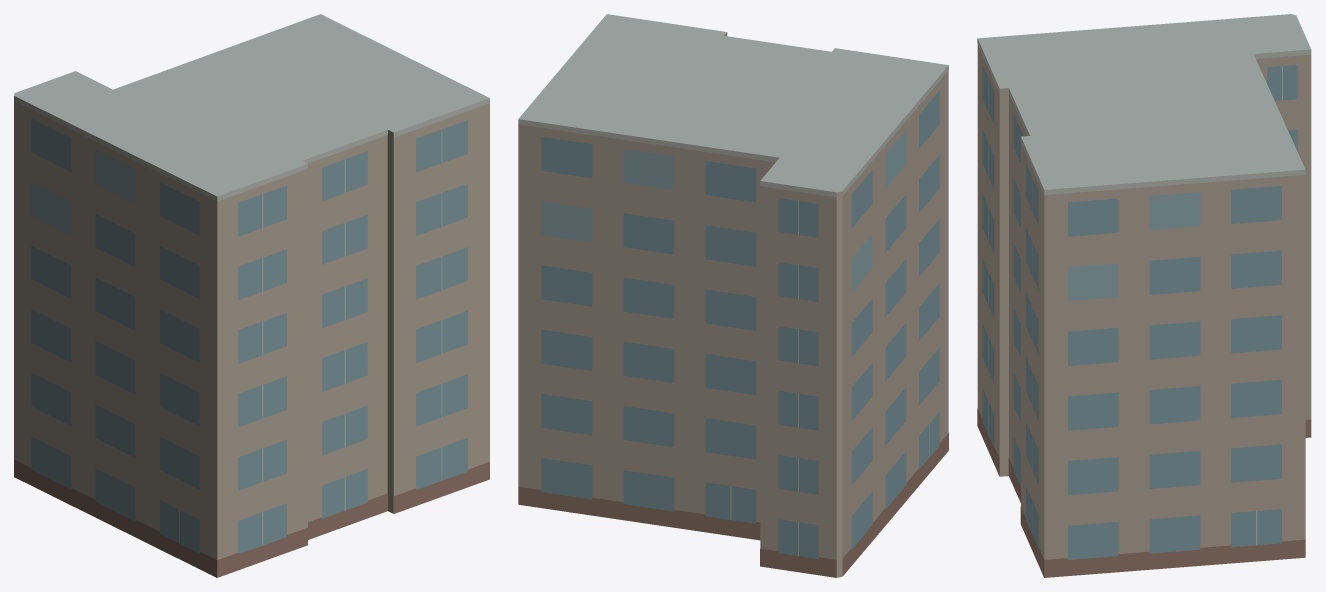
Rendered from survey-upis-32933748.glb.
3 renders of one model, left to right at view 1: azimuth 30°, elevation 25°; view 2: azimuth 150°, elevation 25°; view 3: azimuth 270°, elevation 25°, orthographic.
Parts seen in each view (by area): view 1: survey-upis-32933748.tmp; view 2: survey-upis-32933748.tmp; view 3: survey-upis-32933748.tmp.
Boxes of the visible parts, <box> form: survey-upis-32933748.tmp: <box>14,14,489,577</box>; survey-upis-32933748.tmp: <box>518,14,948,577</box>; survey-upis-32933748.tmp: <box>977,14,1311,577</box>.
Bounding box in the file's own units: 17.81 × 18.3 × 14.28.
